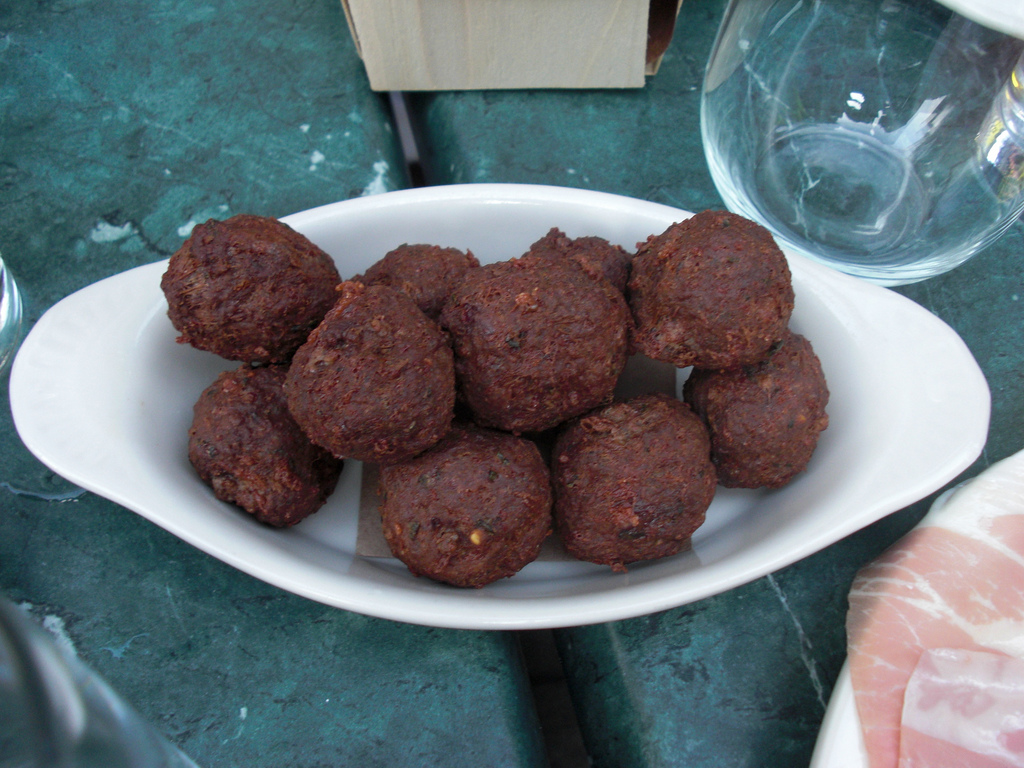meatballs: (478, 284, 693, 550), (314, 276, 452, 438)
